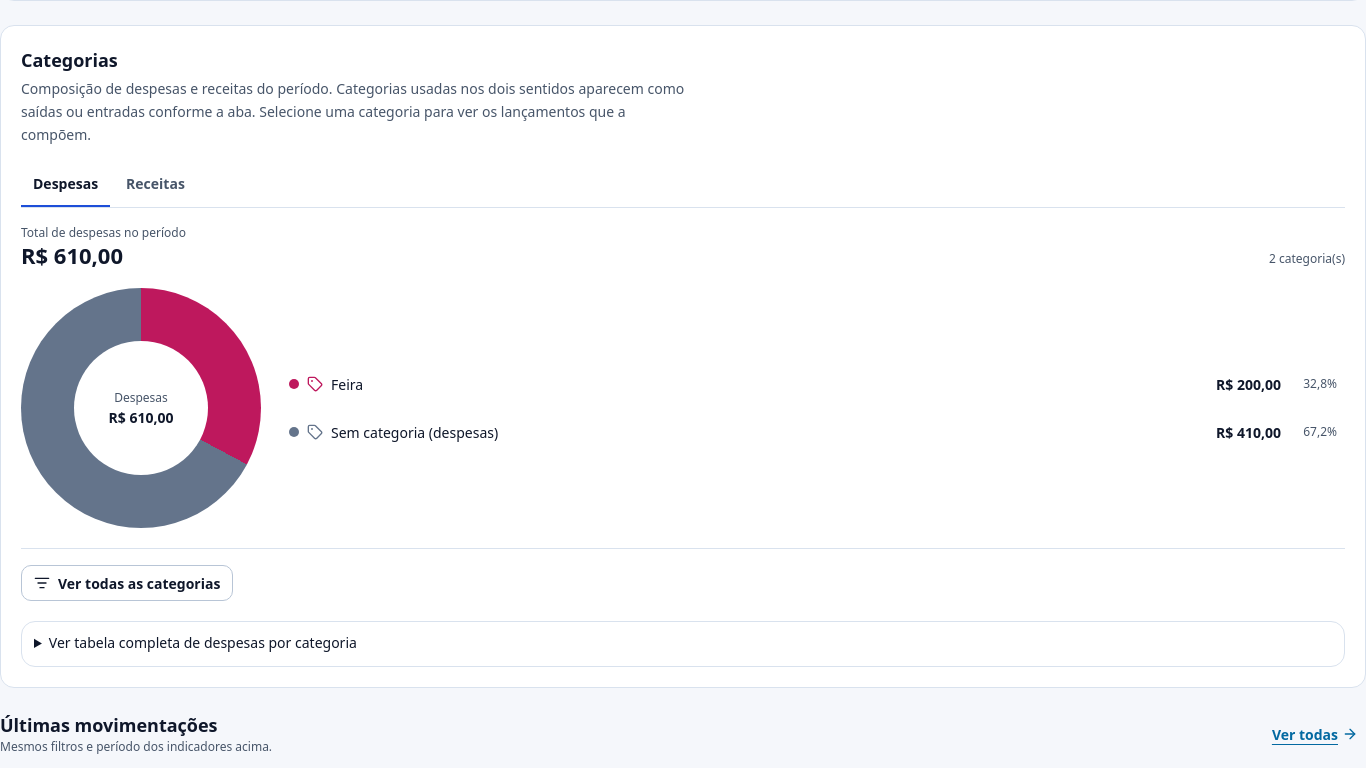
dashboard › abre drill-down por categoria no drawer preservando o contexto
The width and height of the screenshot is (1366, 768).
(page scrolled)
Check: the heading "Categorias" is shown, box [21,48,118,72]
Check: the text "Sem categoria (despesas)" is shown, box [331,422,498,442]
Click the button "Feira R$ 200,00 32,8%". click: (347, 384)
box: [281,362,1345,406]
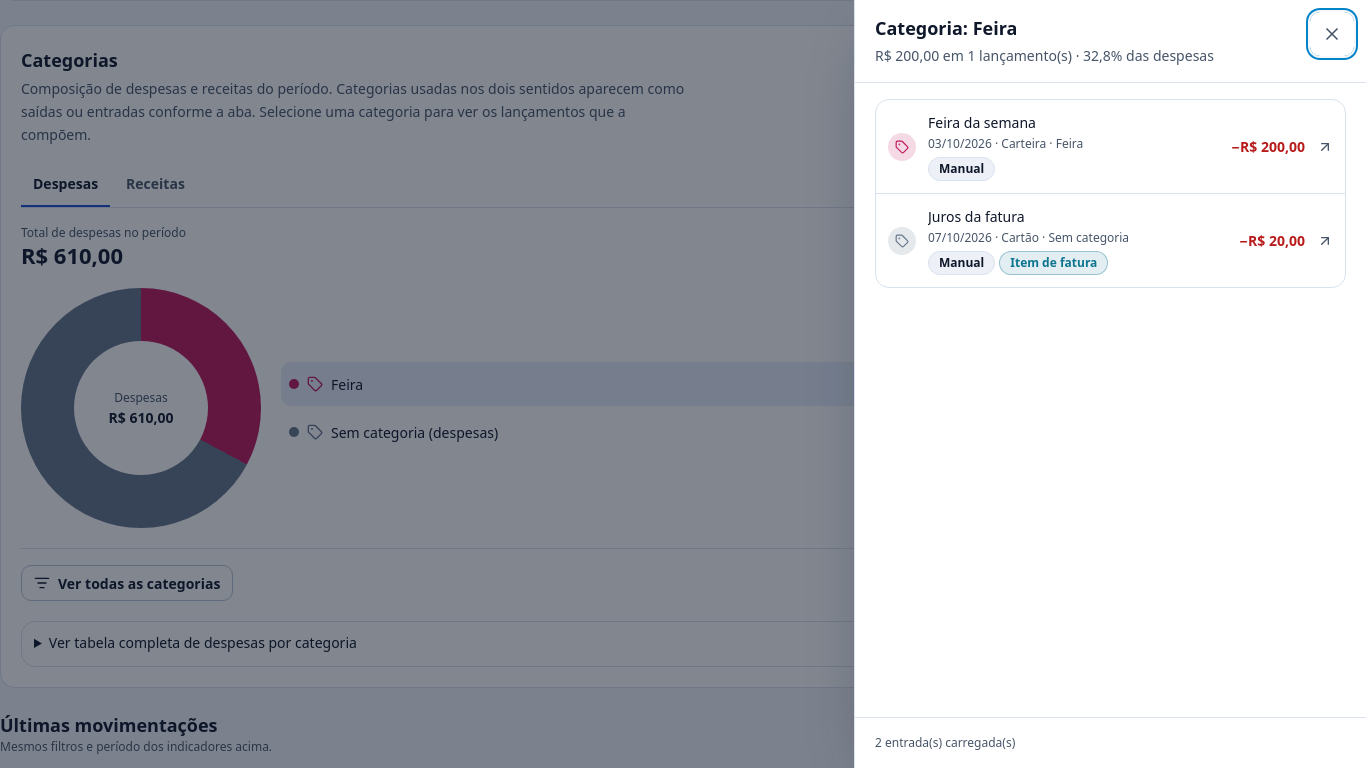
Check: the dialog "Categoria: Feira" is shown, box [854,0,1365,767]
Check: the text "R$ 200,00 em 1 lançamento(s) · 32,8% das despesas" is shown, box [875,45,1214,66]
Click the button named "Fechar". click: (1332, 34)
box: [1310,12,1354,56]
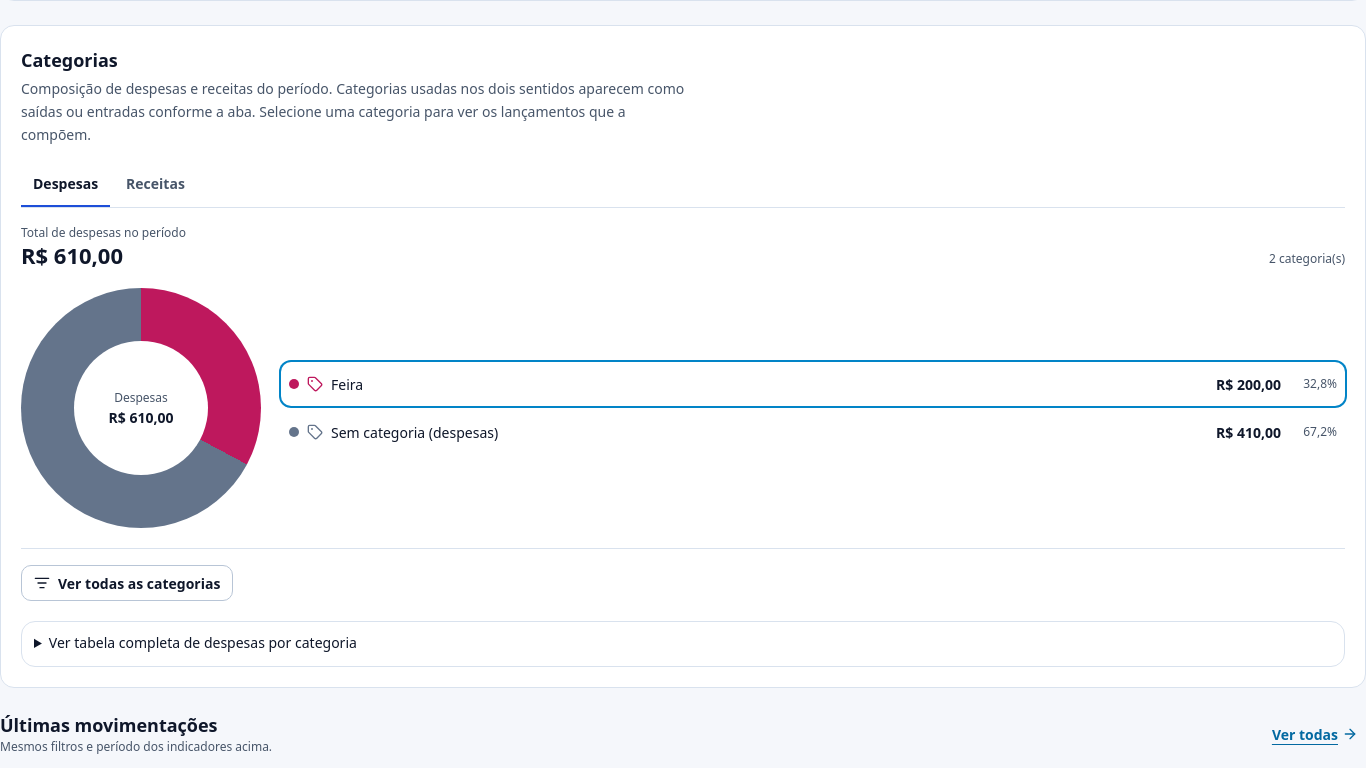
Check: the heading "Categoria: Feira" is gone
